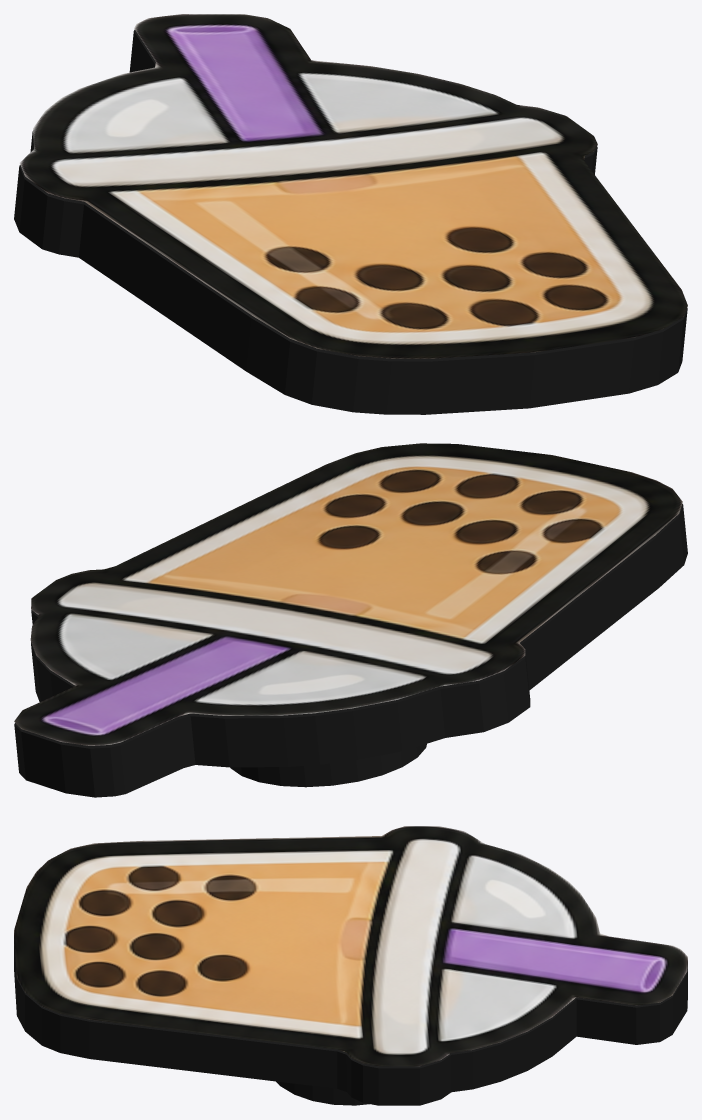
File: food-bubble-tea.glb
3 views of the same model, one above another, from view 1: azimuth 30°, elevation 25°; view 2: azimuth 150°, elevation 25°; view 3: azimuth 270°, elevation 25° (orthographic). The views are drawn at different scales.
Parts seen in each view (by area): view 1: FOOD_Bubble_Tea_MODEL; view 2: FOOD_Bubble_Tea_MODEL; view 3: FOOD_Bubble_Tea_MODEL.
Boxes of the visible parts, bbox=[...] form: FOOD_Bubble_Tea_MODEL: bbox=[14, 14, 687, 414]; FOOD_Bubble_Tea_MODEL: bbox=[14, 443, 687, 797]; FOOD_Bubble_Tea_MODEL: bbox=[14, 826, 687, 1105].
Bounding box in the file's own units: 0.273 × 0.0973 × 0.3939.
Materials: 3 (1 with a texture image).
